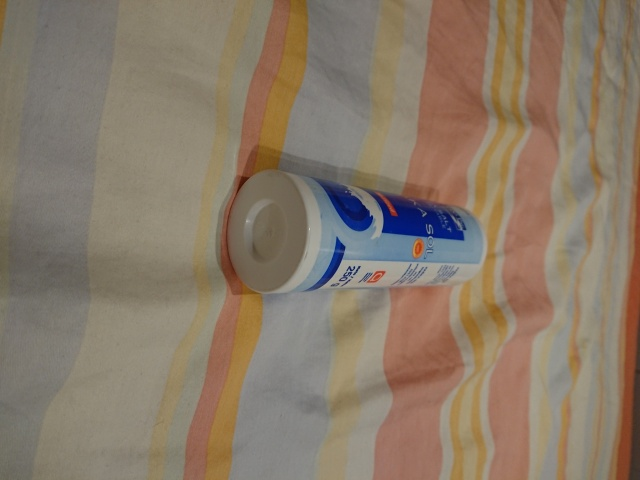Solana Pag Fine Sea Salt 250g: (222, 166, 489, 297)
